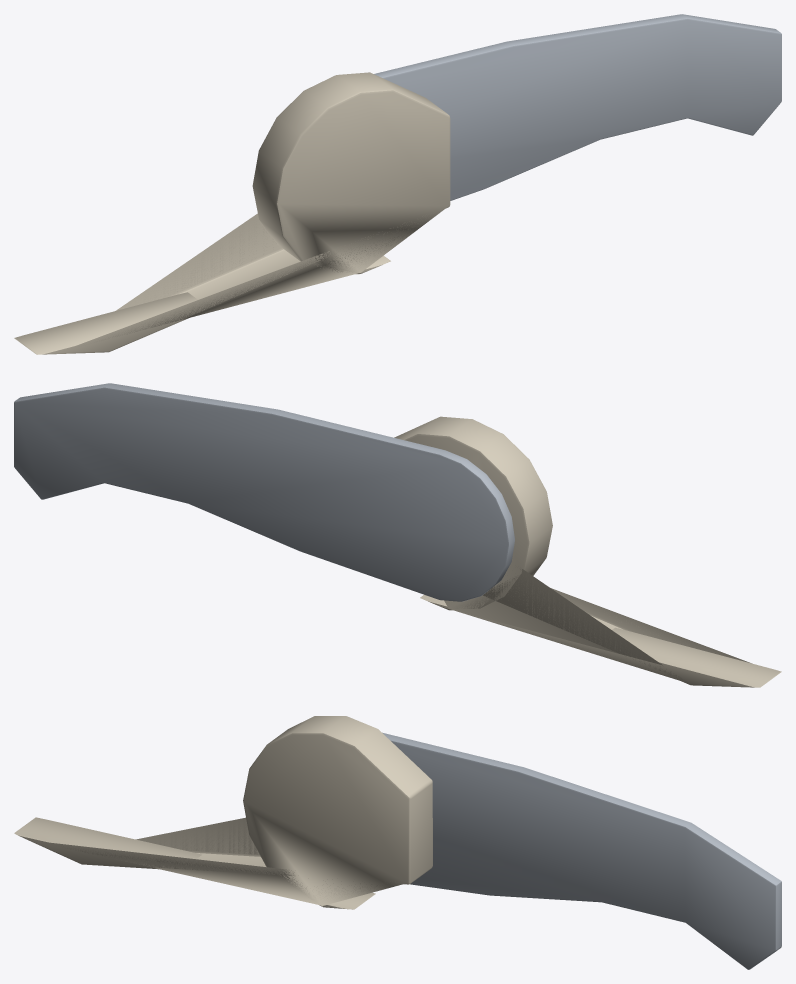
Rendered from cutter_blade.obj.
3 views of the same model, one above another, from view 1: azimuth 30°, elevation 25°; view 2: azimuth 150°, elevation 25°; view 3: azimuth 330°, elevation 25° (orthographic). The views are drawn at different scales.
Parts seen in each view (by area): view 1: blade_carrier, blade; view 2: blade, blade_carrier; view 3: blade, blade_carrier.
Part boxes in pixels (bbox=[...]): blade_carrier: bbox=[14, 72, 450, 354]; blade: bbox=[374, 14, 781, 200]; blade: bbox=[14, 383, 514, 601]; blade_carrier: bbox=[394, 416, 781, 687]; blade: bbox=[382, 732, 781, 969]; blade_carrier: bbox=[14, 716, 432, 909].
Bounding box in the file's own units: 0.0529 × 0.0131 × 0.0038.
